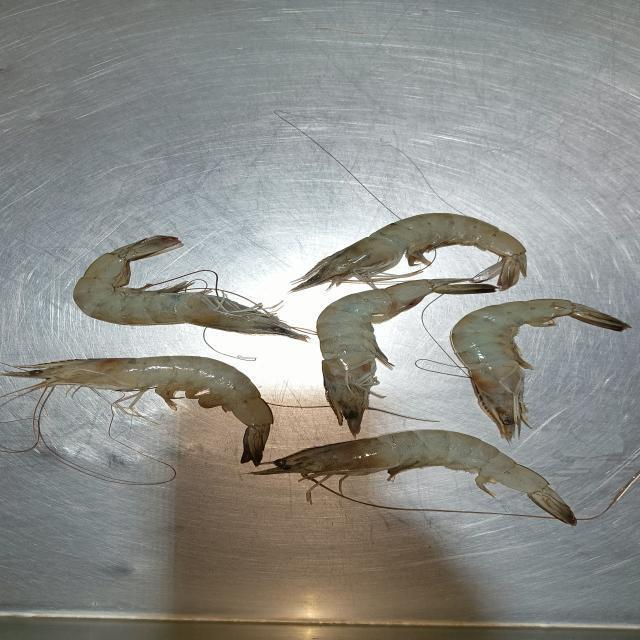shrimp: (1, 356, 271, 463), (265, 430, 575, 523), (317, 280, 486, 435), (451, 299, 630, 439), (73, 236, 308, 339), (294, 213, 526, 291)
